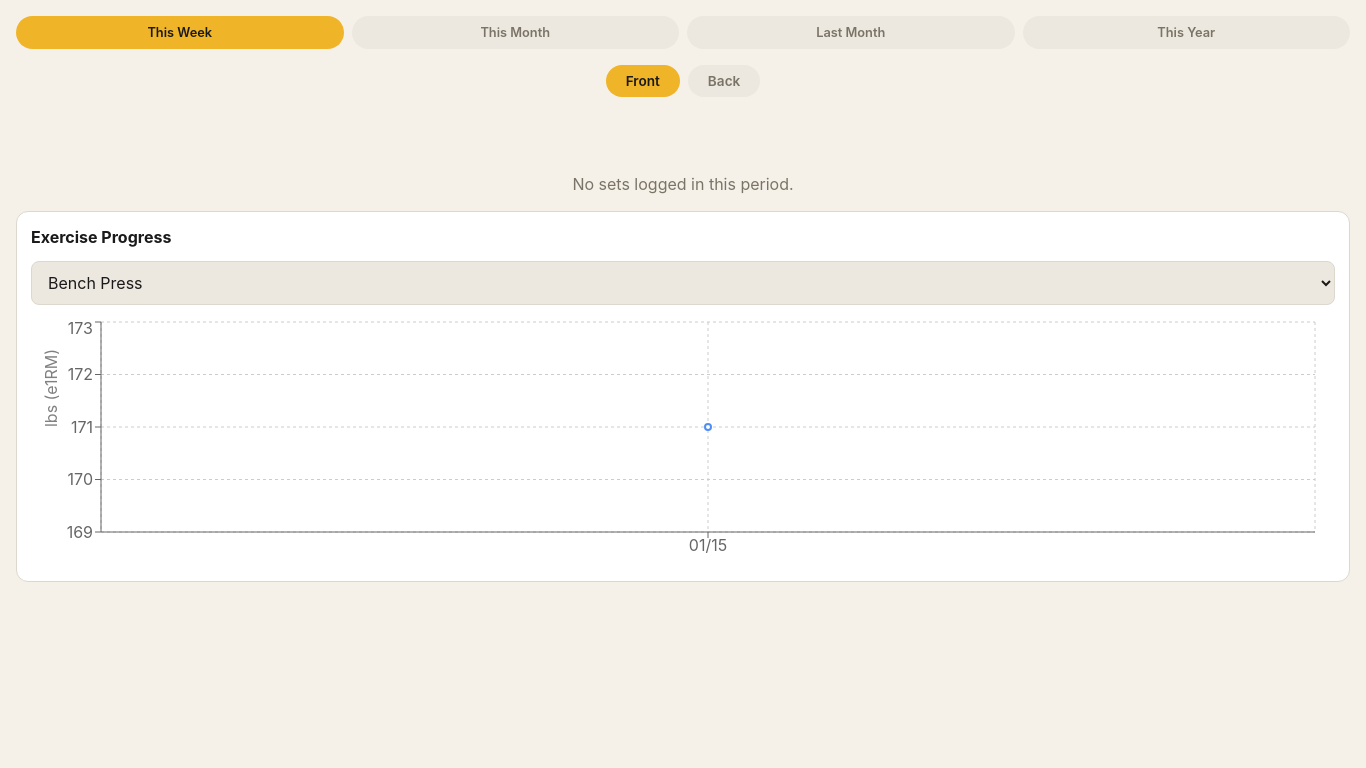
Test case: StatsView › shows data from last month when Last Month is selected
This screenshot has width=1366, height=768.
expect the text "Chest" is not shown: met
Note: Click Last Month: Jan set now visible
Click the button "Last Month". click: coordinates (851, 32)
box: x1=687 y1=16 x2=1014 y2=49
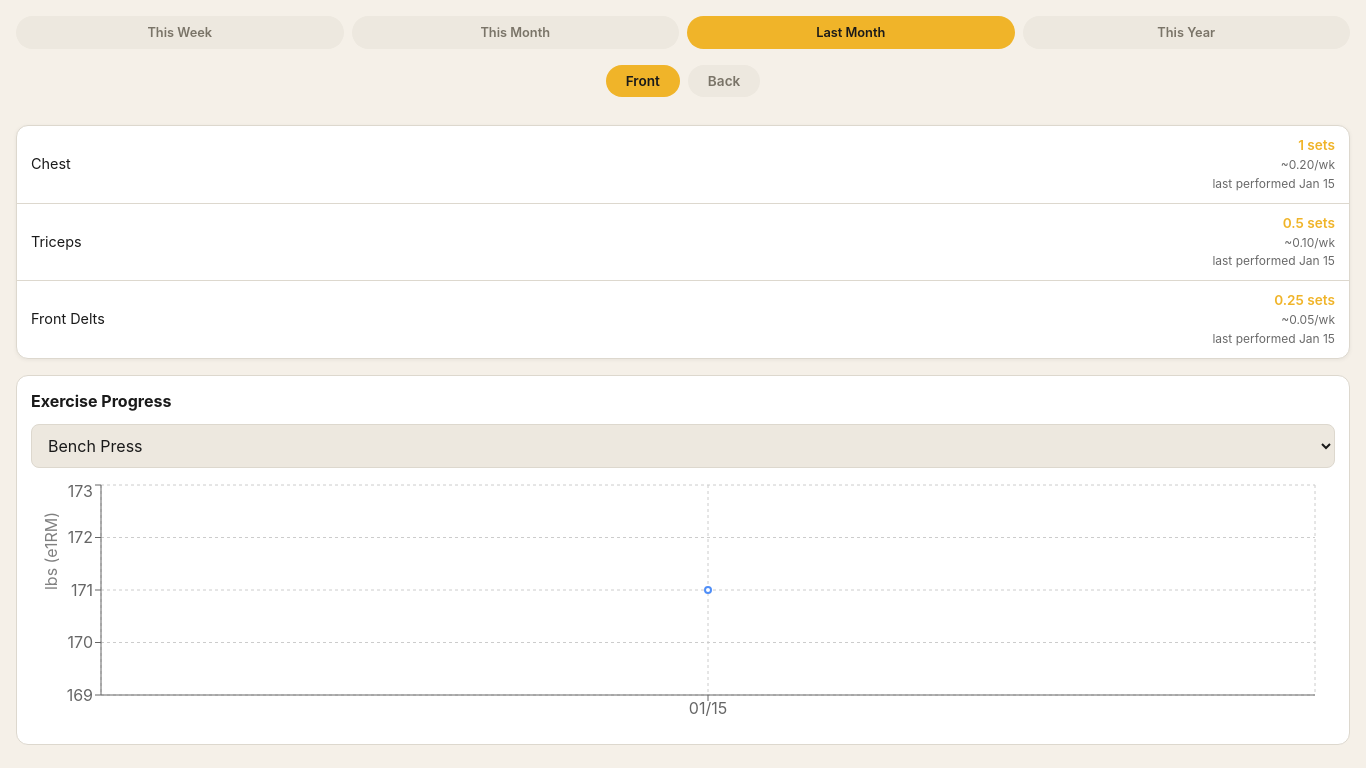
expect the text "Chest" is shown: met, box x1=31 y1=154 x2=71 y2=174
